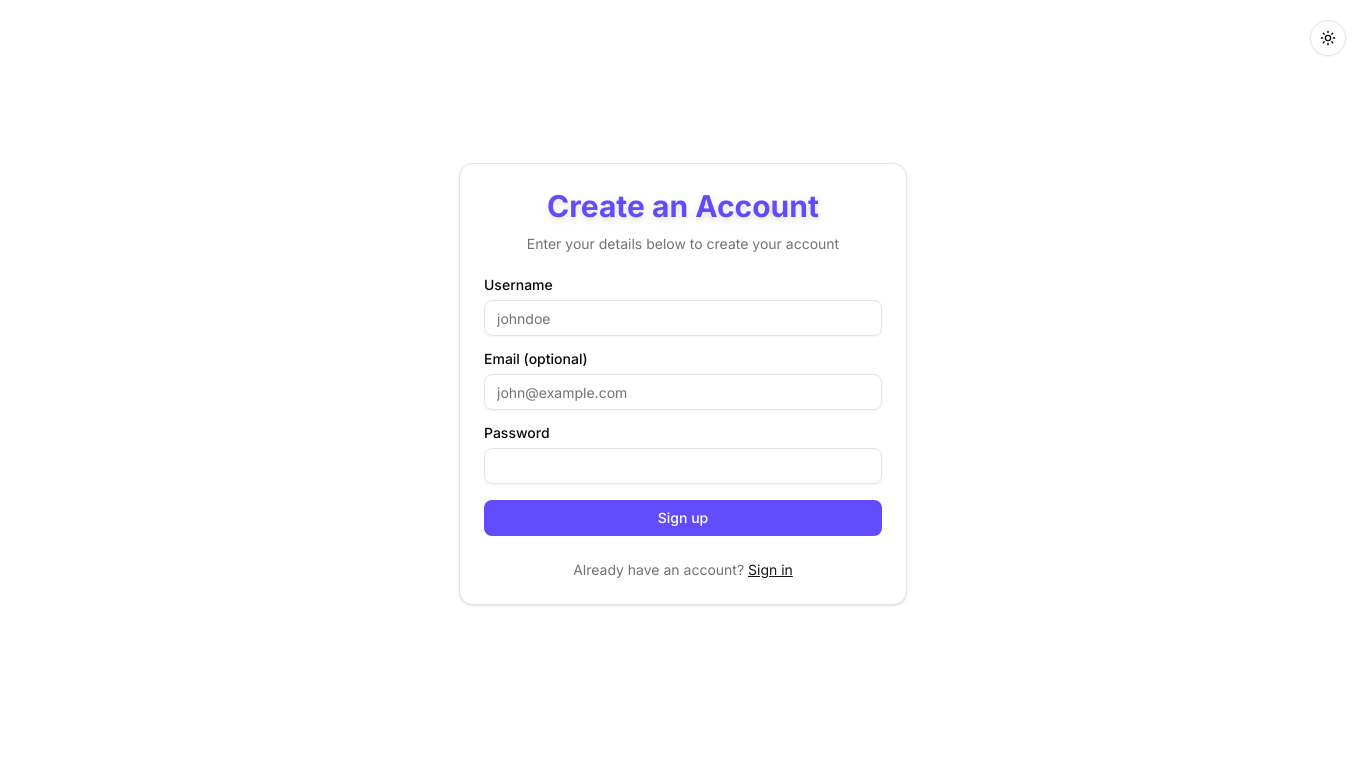
SignUpPage › shows validation errors when form is submitted with empty fields
Click the button "Sign up": point(683, 518) [484,500,882,536]
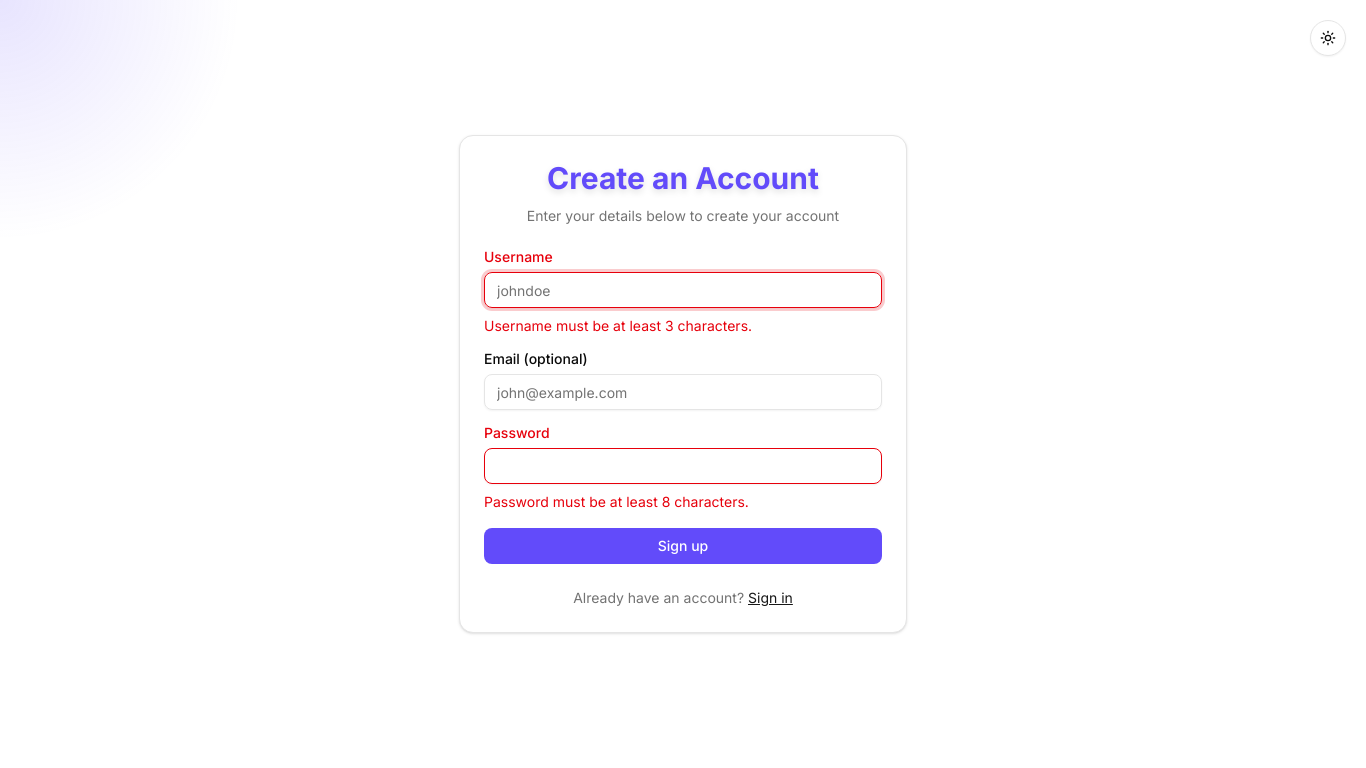
expect the text "Username must be at least 3 characters." is shown: met, box [484,317,752,334]
expect the text "Password must be at least 8 characters." is shown: met, box [484,493,749,510]
